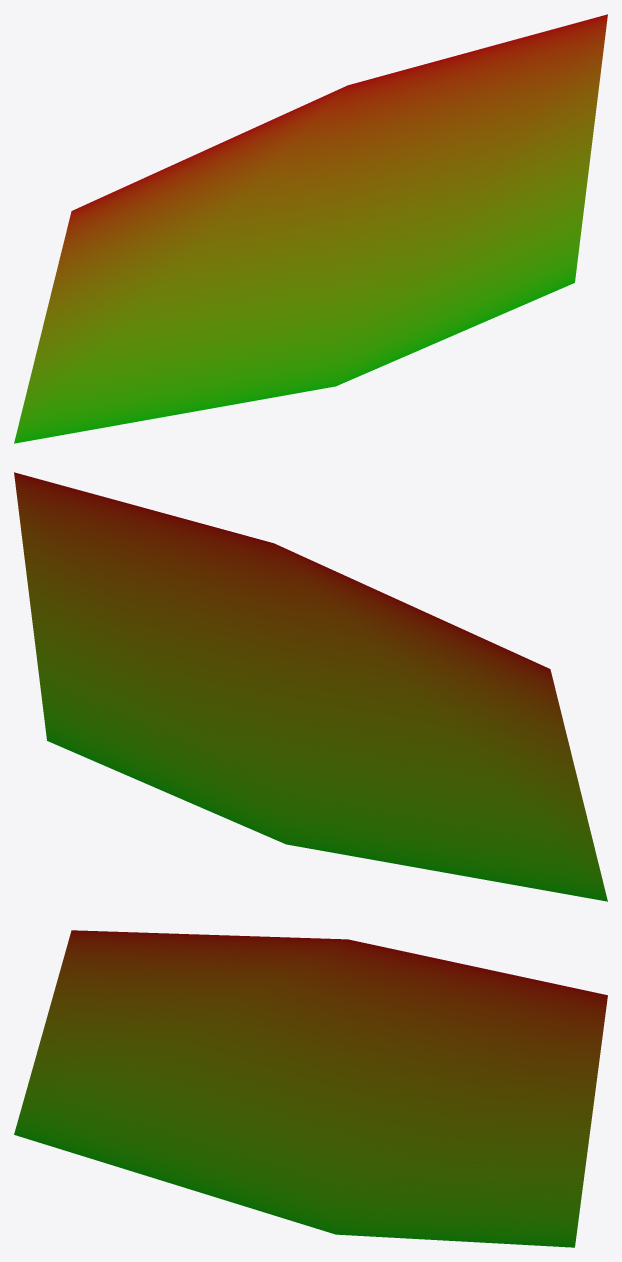
Rendered from Alpine Bearberry_LOD5_Var7_xb0gdazqx.fbx.
3 views of the same model, one above another, from view 1: azimuth 30°, elevation 25°; view 2: azimuth 150°, elevation 25°; view 3: azimuth 330°, elevation 25° (orthographic).
Parts seen in each view (by area): view 1: _ylvo_Var7_LOD5; view 2: _ylvo_Var7_LOD5; view 3: _ylvo_Var7_LOD5.
Boxes of the visible parts, x1=… form: _ylvo_Var7_LOD5: x1=14, y1=14, x2=607, y2=443; _ylvo_Var7_LOD5: x1=14, y1=472, x2=607, y2=901; _ylvo_Var7_LOD5: x1=14, y1=930, x2=607, y2=1247.
Bounding box in the file's own units: 27.05 × 13.3 × 0.
